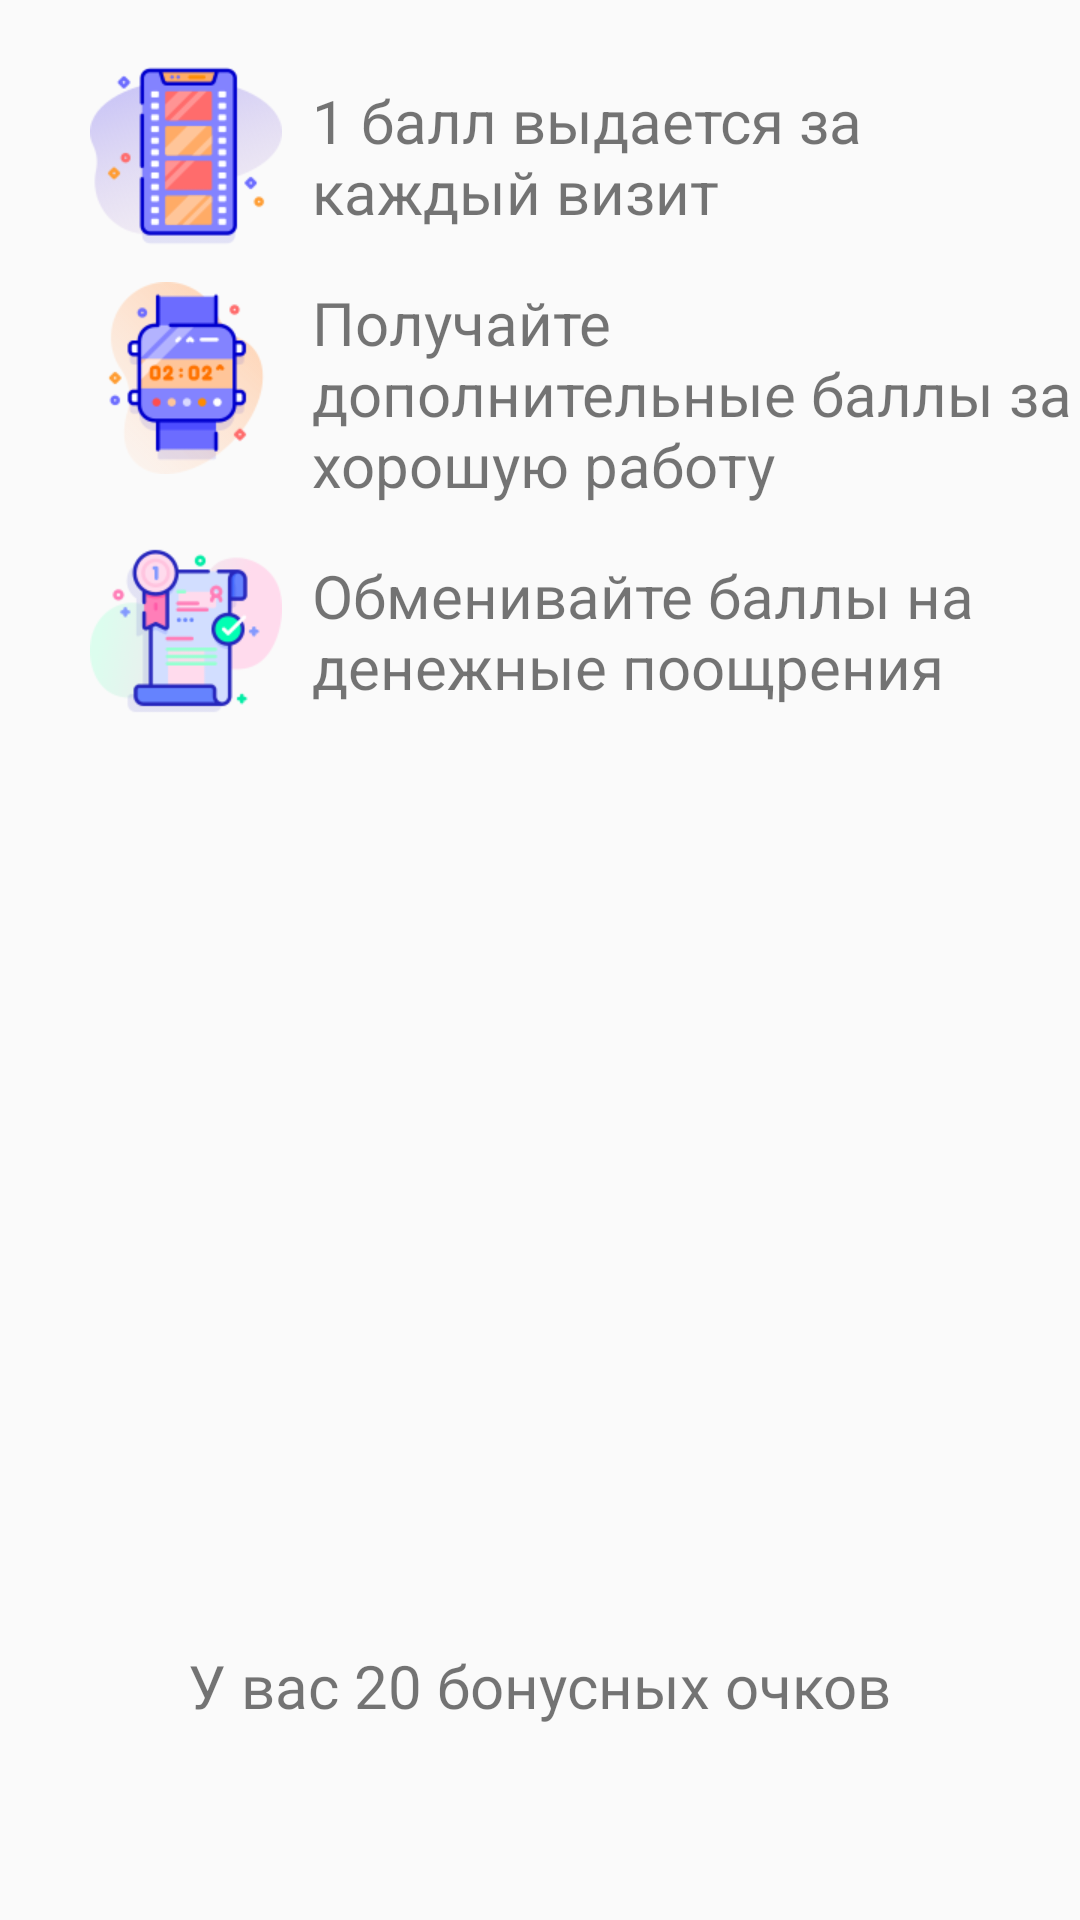

Icons on this 1080x1920 Android screen, each with the point to tap as (x=x, y=y):
clock: (x=186, y=371)
contract: (x=186, y=628)
